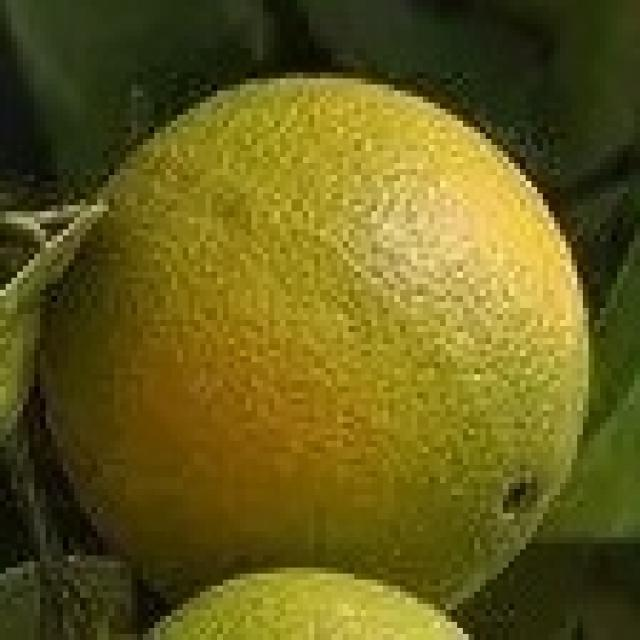Orange: (34, 36, 606, 616), (131, 566, 473, 640)
